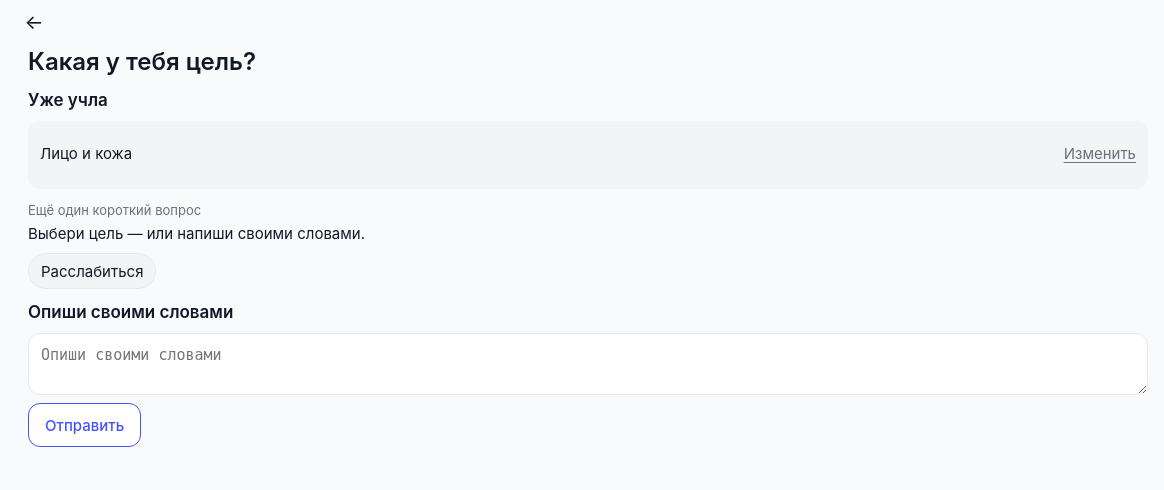
Scenario: «Изменить» — пересмотр ответа с revise › «Оставить как есть» возвращает вопрос, ничего не отправляя
The width and height of the screenshot is (1164, 490).
Step 1. Click the button with aria-label "Изменить: Лицо и кожа" → {"x": 1100, "y": 155}, box [1064,133,1136,177]
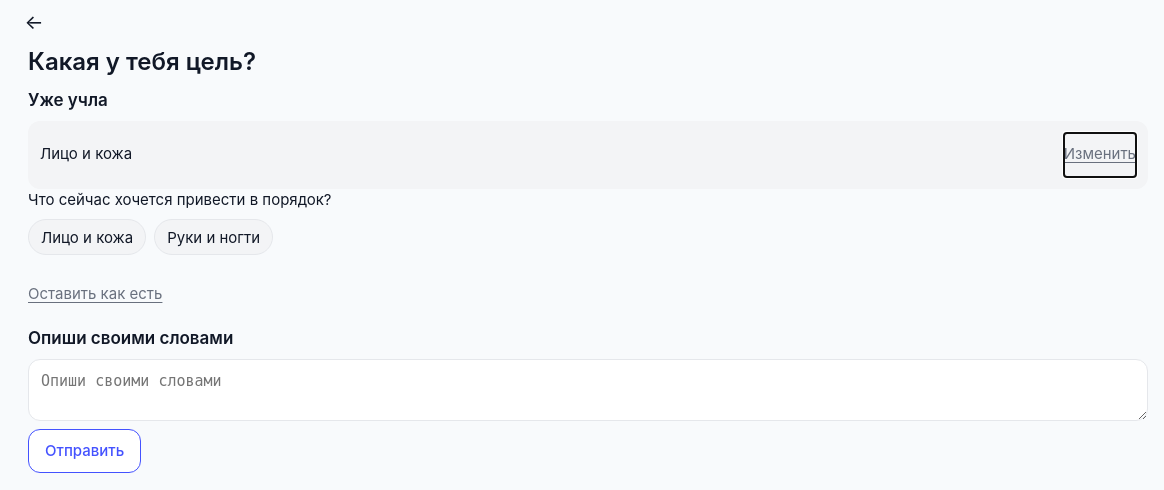
Step 2. Click the button "Оставить как есть" → {"x": 95, "y": 293}, box [28,271,162,315]
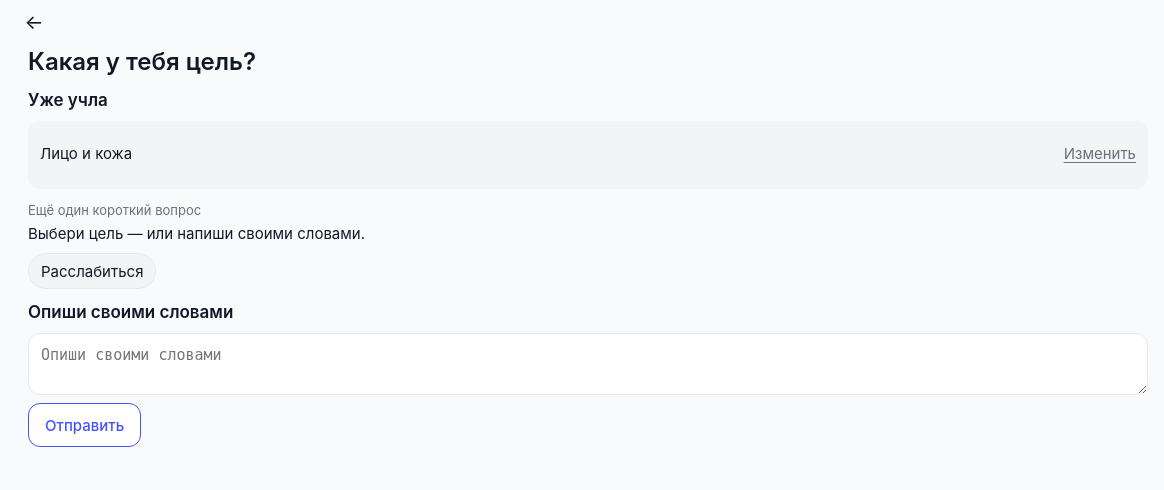
Expected: the element named "Выбери цель — или напиши своими словами." is shown, [28,253,156,289]
